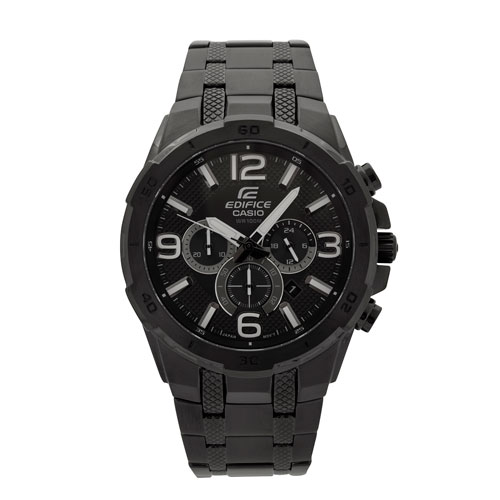clock: (118, 114, 378, 379)
